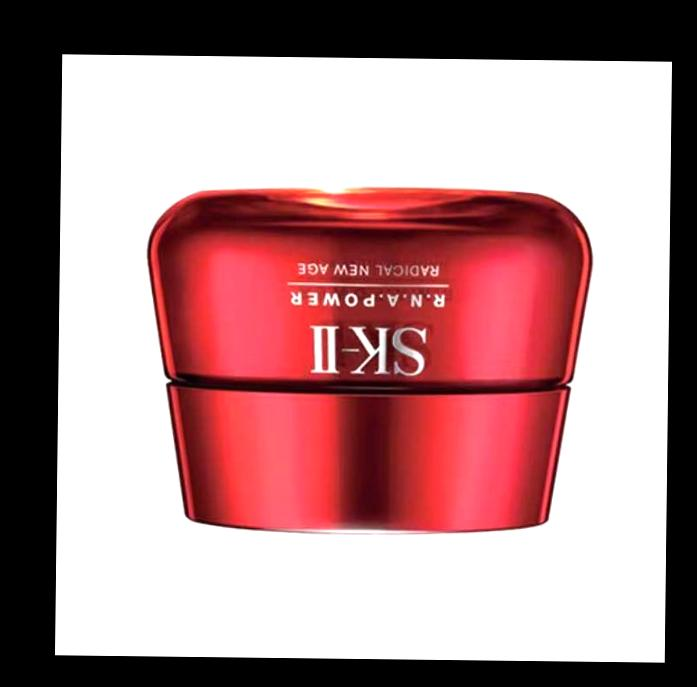cosmetic: (156, 196, 580, 533)
